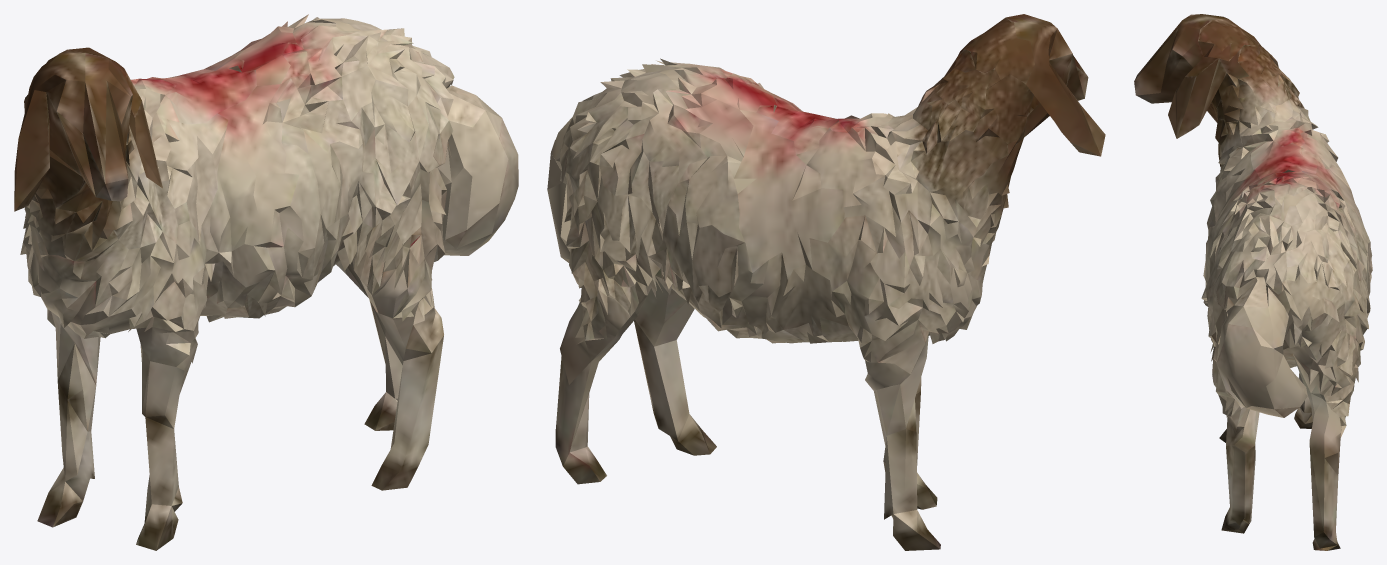
Rendered from sheep.glb.
The picture shows the model from 3 angles, left to right: view 1: azimuth 30°, elevation 25°; view 2: azimuth 150°, elevation 25°; view 3: azimuth 270°, elevation 25°; orthographic projection. The views are drawn at different scales.
Visible parts, largest first — view 1: output_unwrapped; view 2: output_unwrapped; view 3: output_unwrapped.
Boxes of the visible parts, x1,y1,x2,y2 form: output_unwrapped: (14, 14, 518, 550); output_unwrapped: (547, 14, 1105, 550); output_unwrapped: (1134, 14, 1372, 550).
Size of the model in its own units: 1.89 by 1.74 by 0.9647.
1 material, 1 textured.
